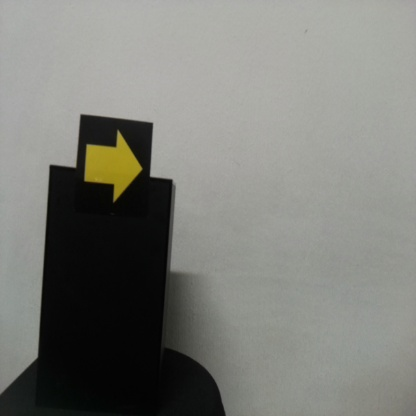id_3: (80, 116, 152, 213)
